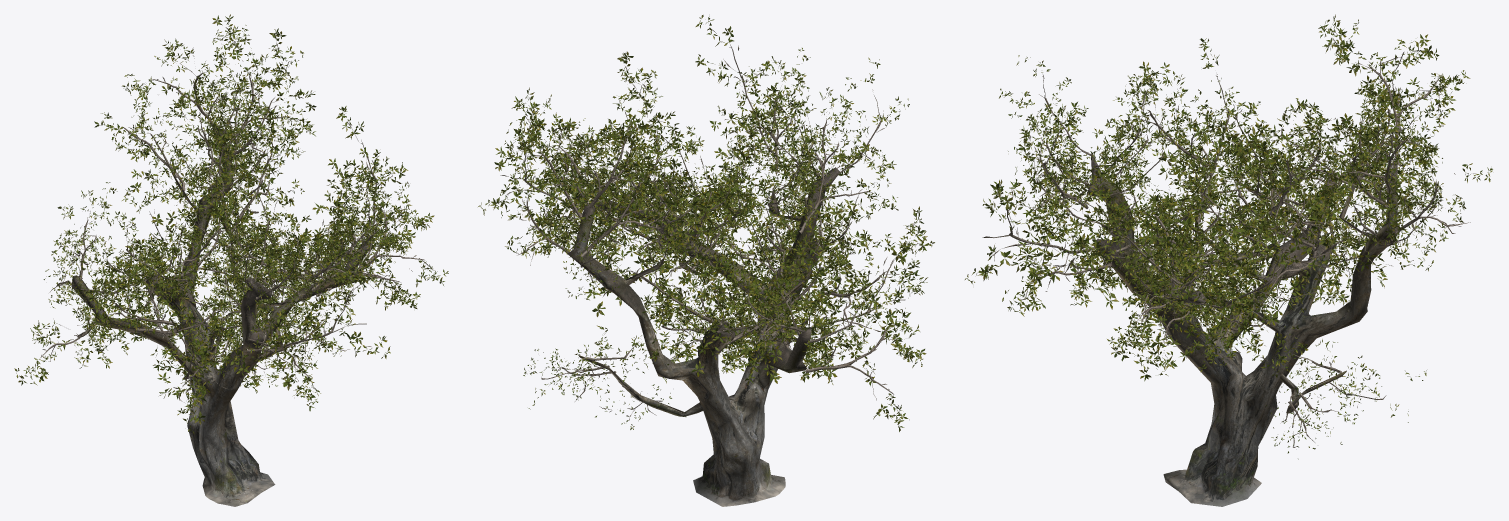
File: tree-optimized.glb
3 renders of one model, left to right at view 1: azimuth 30°, elevation 25°; view 2: azimuth 150°, elevation 25°; view 3: azimuth 270°, elevation 25°, orthographic. The views are drawn at different scales.
Parts seen in each view (by area): view 1: island_tree_01_LOD0; view 2: island_tree_01_LOD0; view 3: island_tree_01_LOD0.
Part boxes in pixels (box(x1,y1,x2,y2)): island_tree_01_LOD0: box(14, 14, 448, 506); island_tree_01_LOD0: box(478, 15, 934, 506); island_tree_01_LOD0: box(965, 14, 1492, 506).
Bounding box in the file's own units: 4.74 × 5.02 × 4.82.
3 materials, 3 textured.
